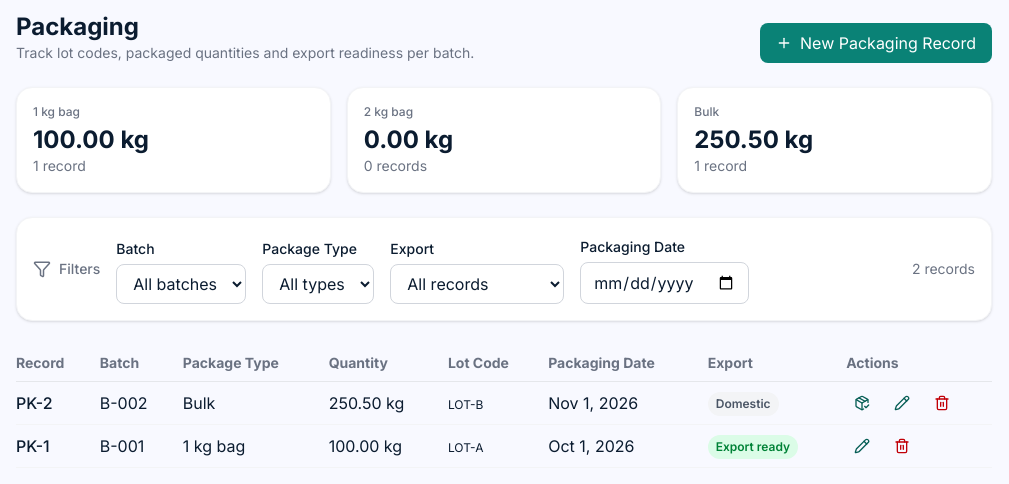
it: PackagingRecordList › filters by package type
This screenshot has width=1009, height=484.
Expected: the text "PK-1" is shown, [16,424,100,468]
Select "Bulk" in the dropdown named "Filter by package type": (318, 284) [262,264,374,304]
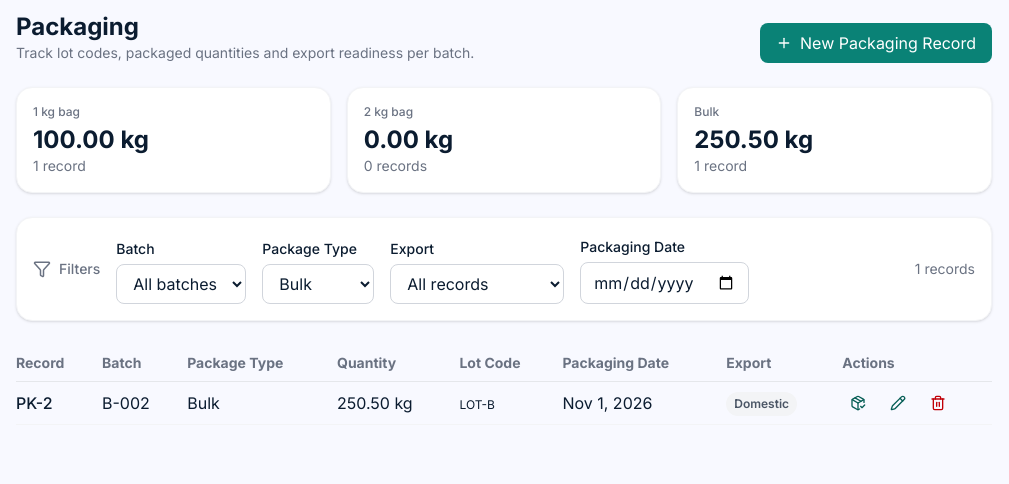
Expected: the text "PK-2" is shown, [16,382,102,424]
Expected: the text "PK-1" is gone
Expected: the text "1 records" is shown, [915,259,975,279]
